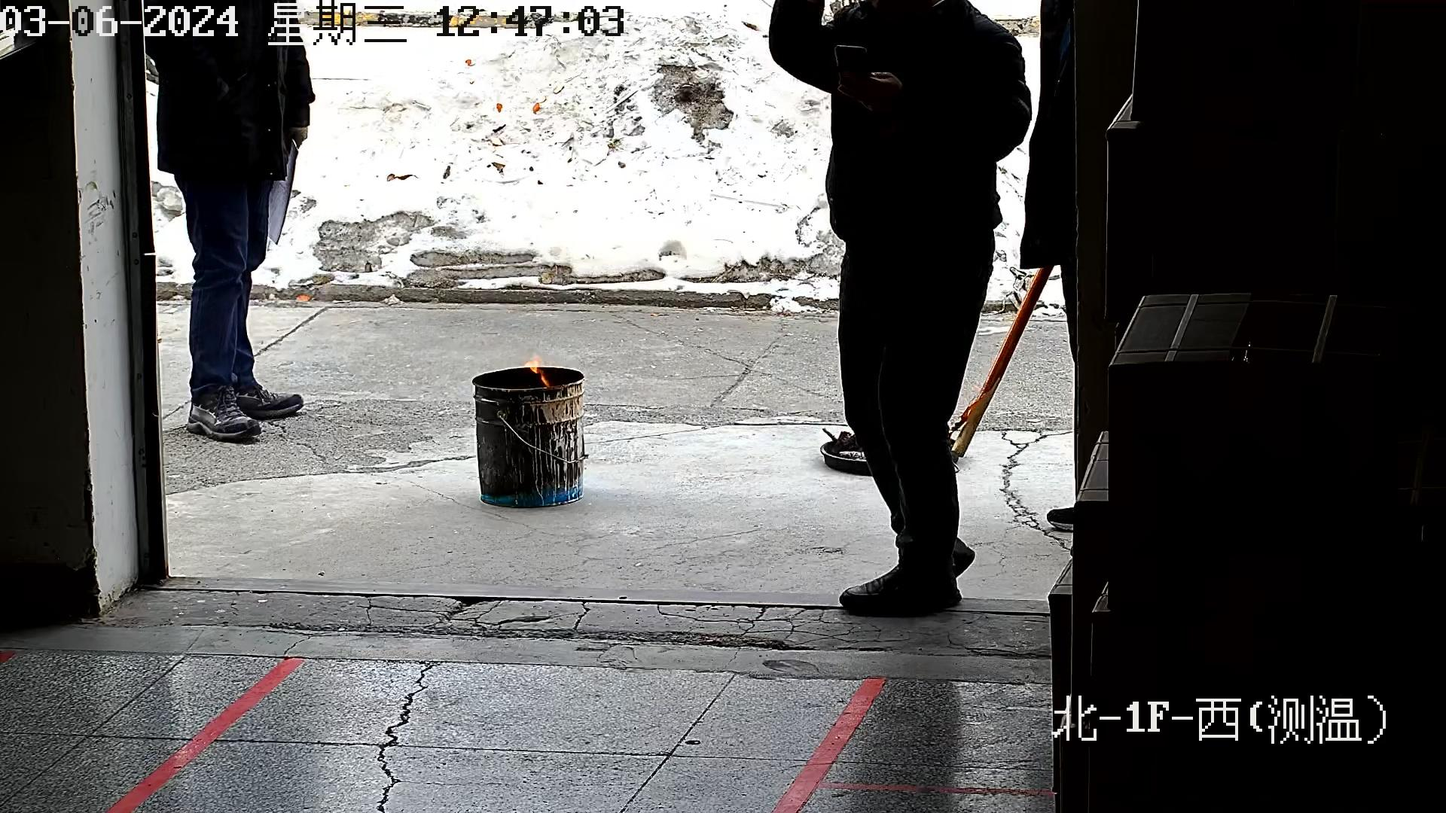fire: (524, 357, 552, 388)
